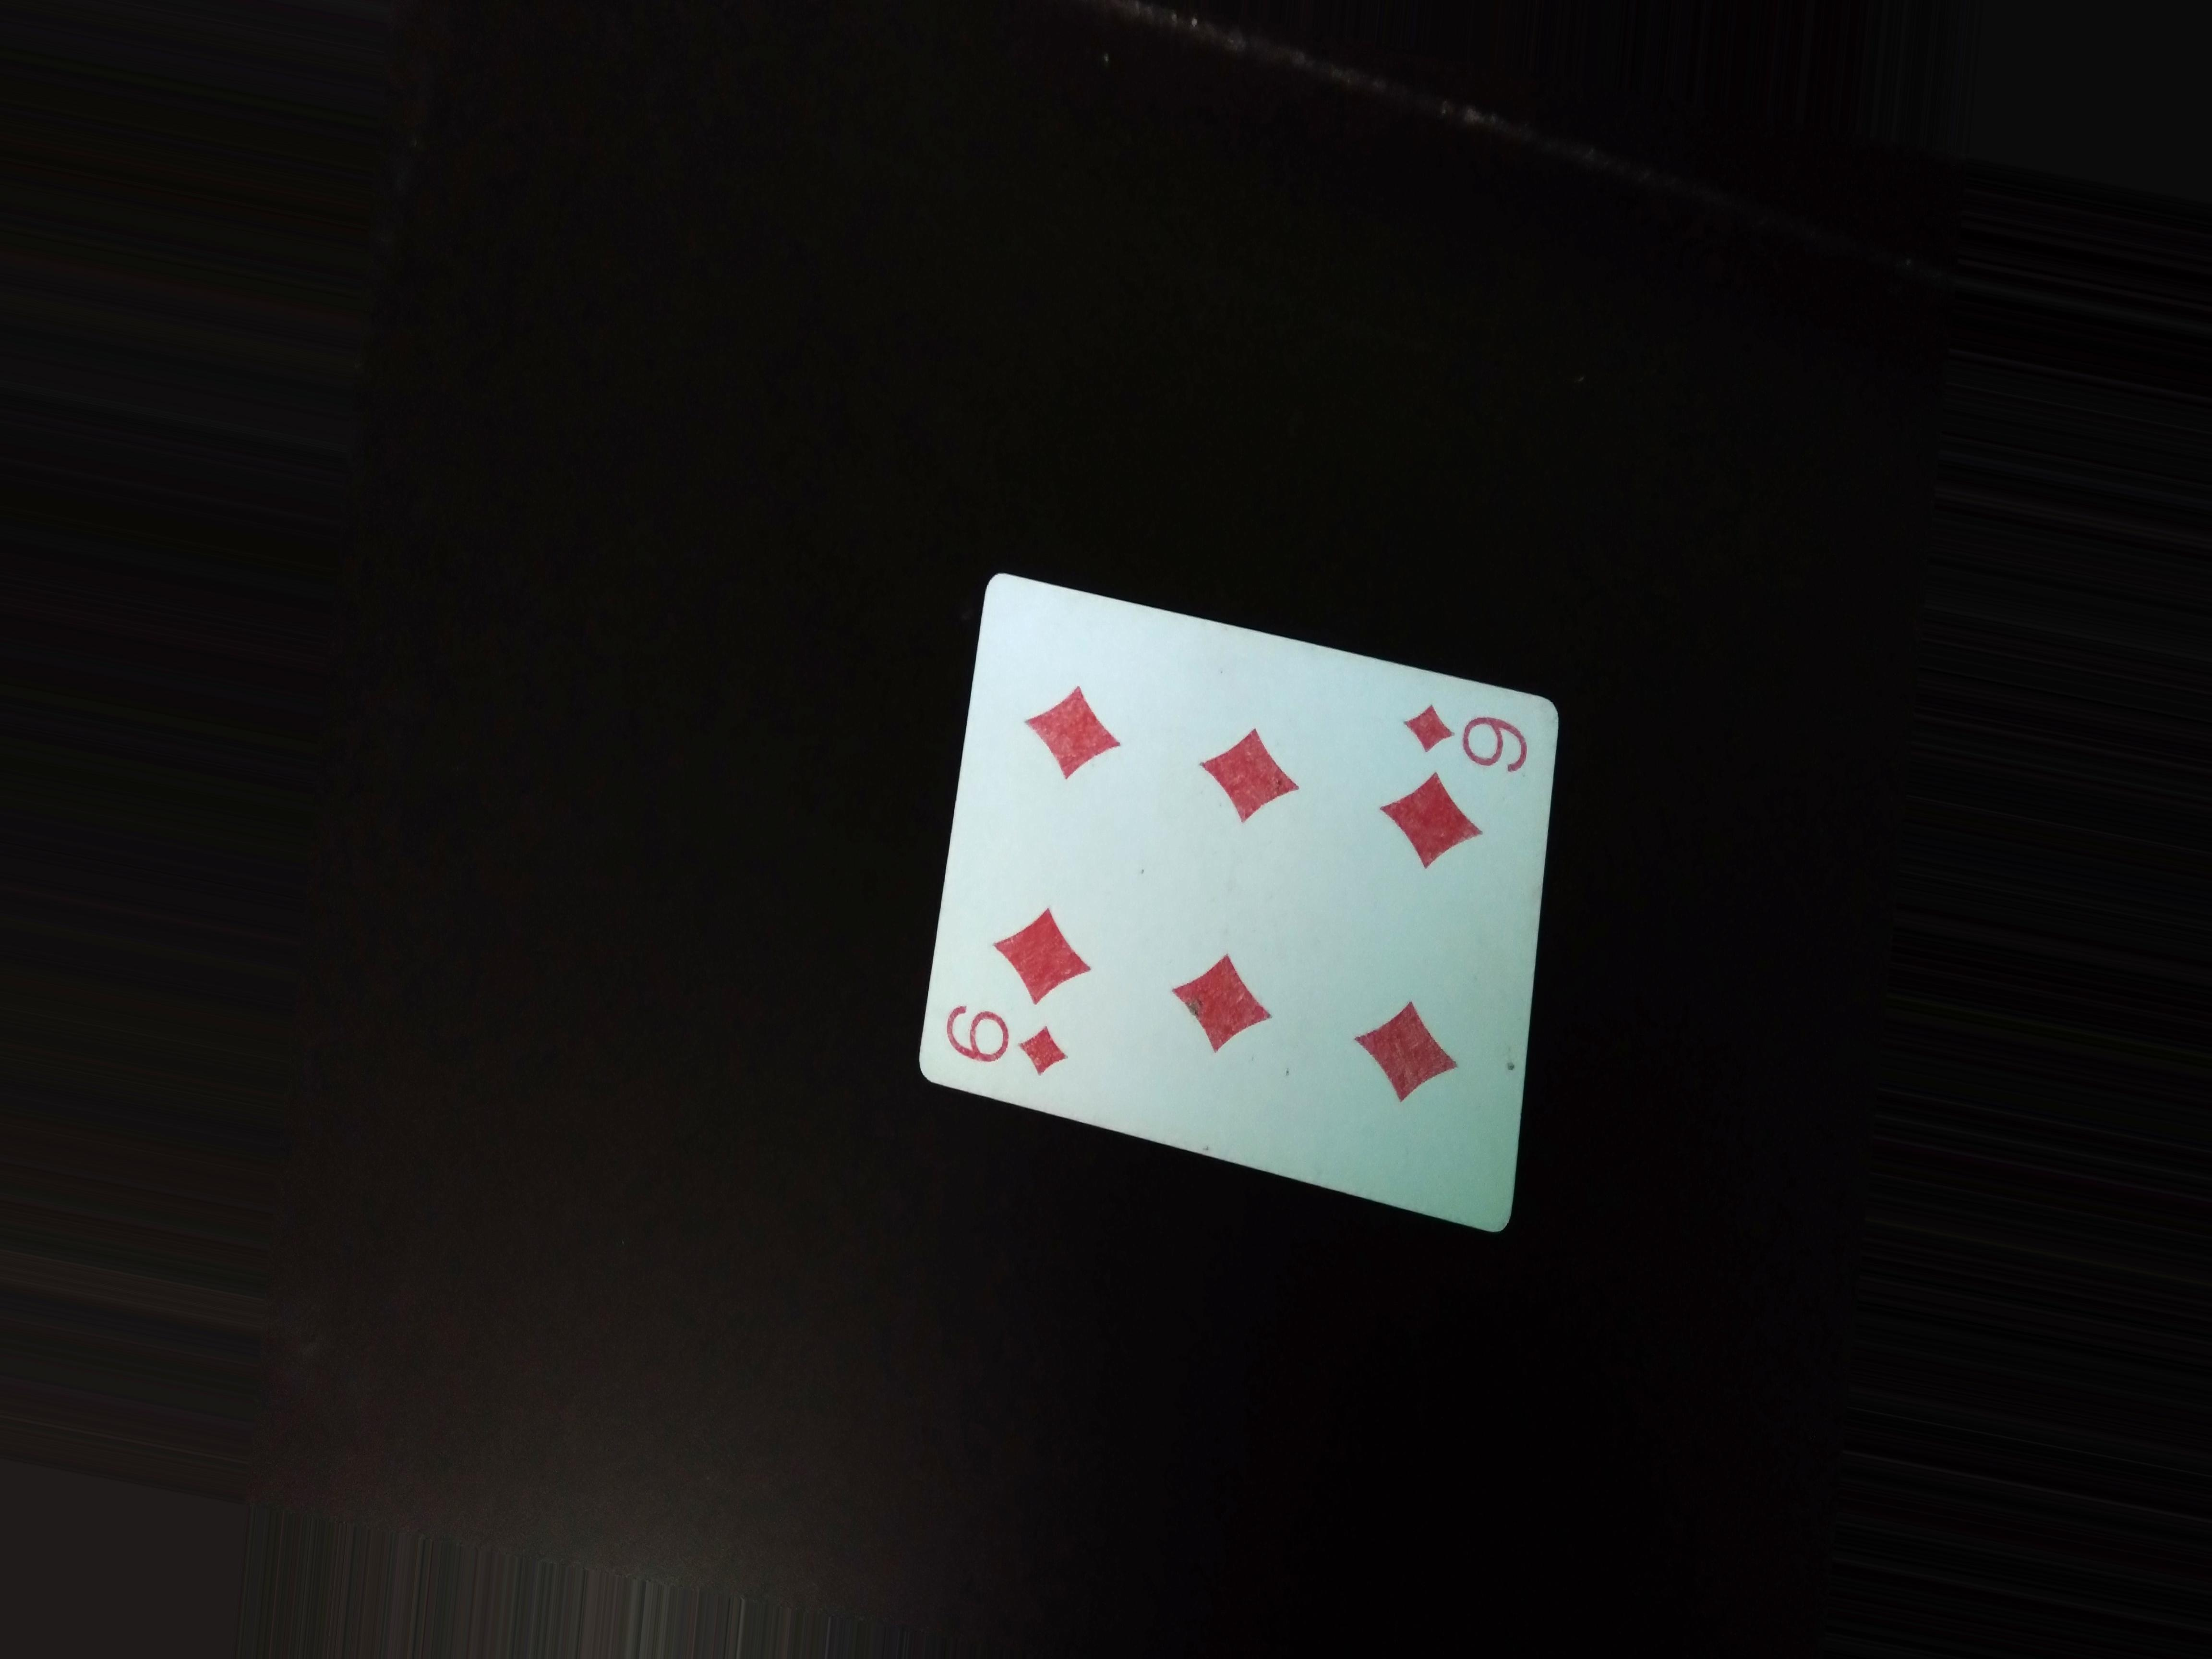6D: (934, 992, 1113, 1101)
